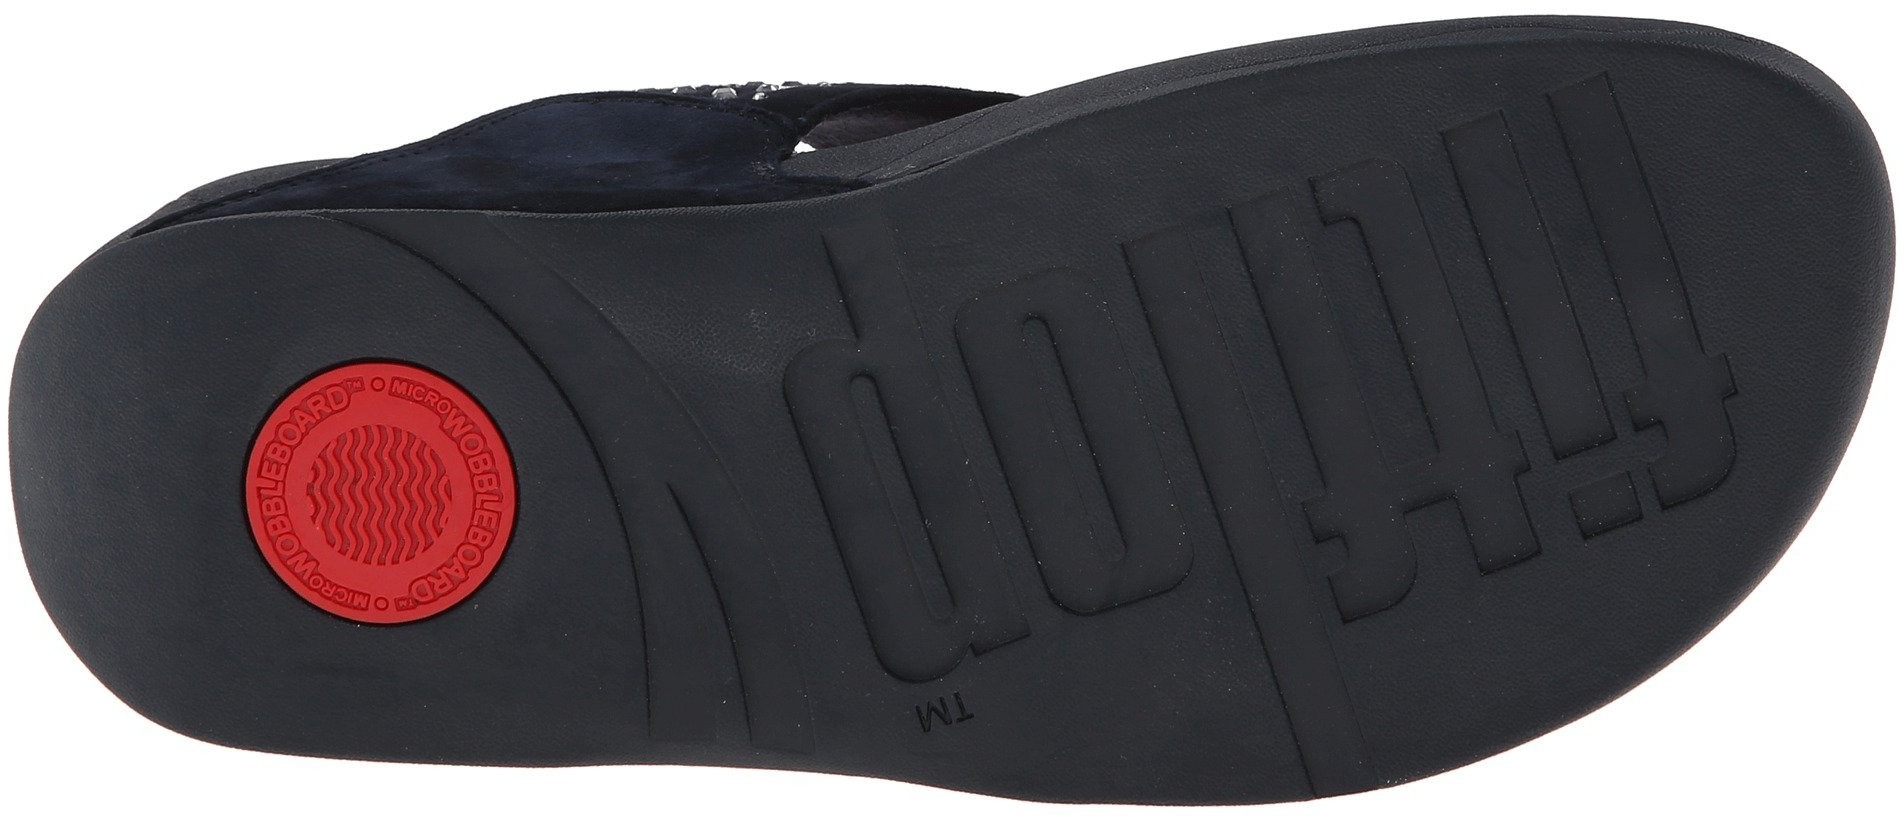chevron: (313, 441, 440, 568)
other: (39, 336, 246, 561), (465, 608, 631, 777), (1071, 658, 1223, 798), (1360, 619, 1497, 745)
text: (750, 306, 1127, 647), (1137, 221, 1497, 561), (1512, 144, 1773, 441)
